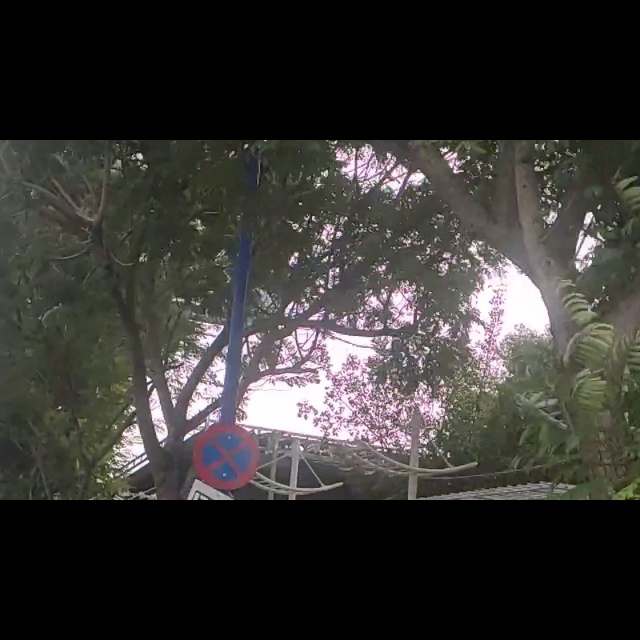bien_cam: (193, 508, 260, 620)
